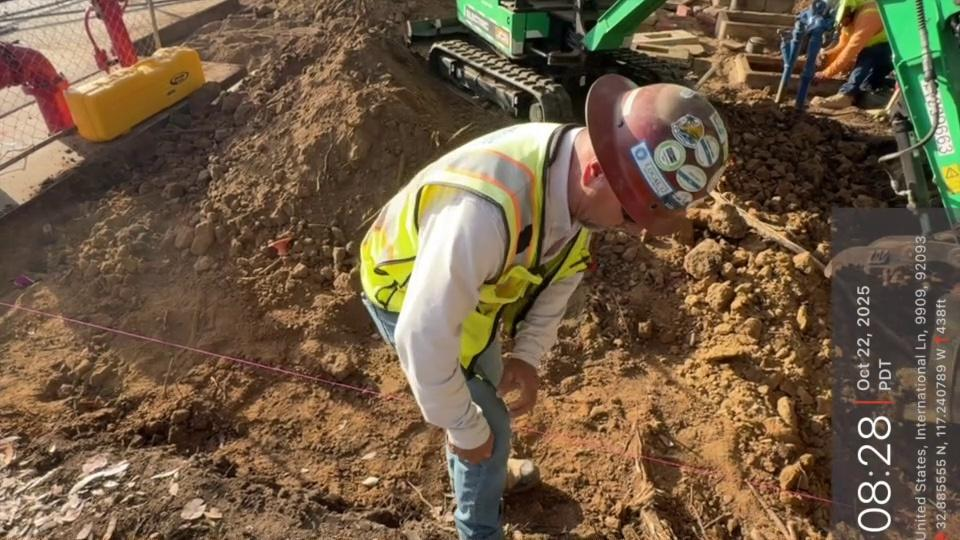Exacavator: (426, 0, 960, 227)
